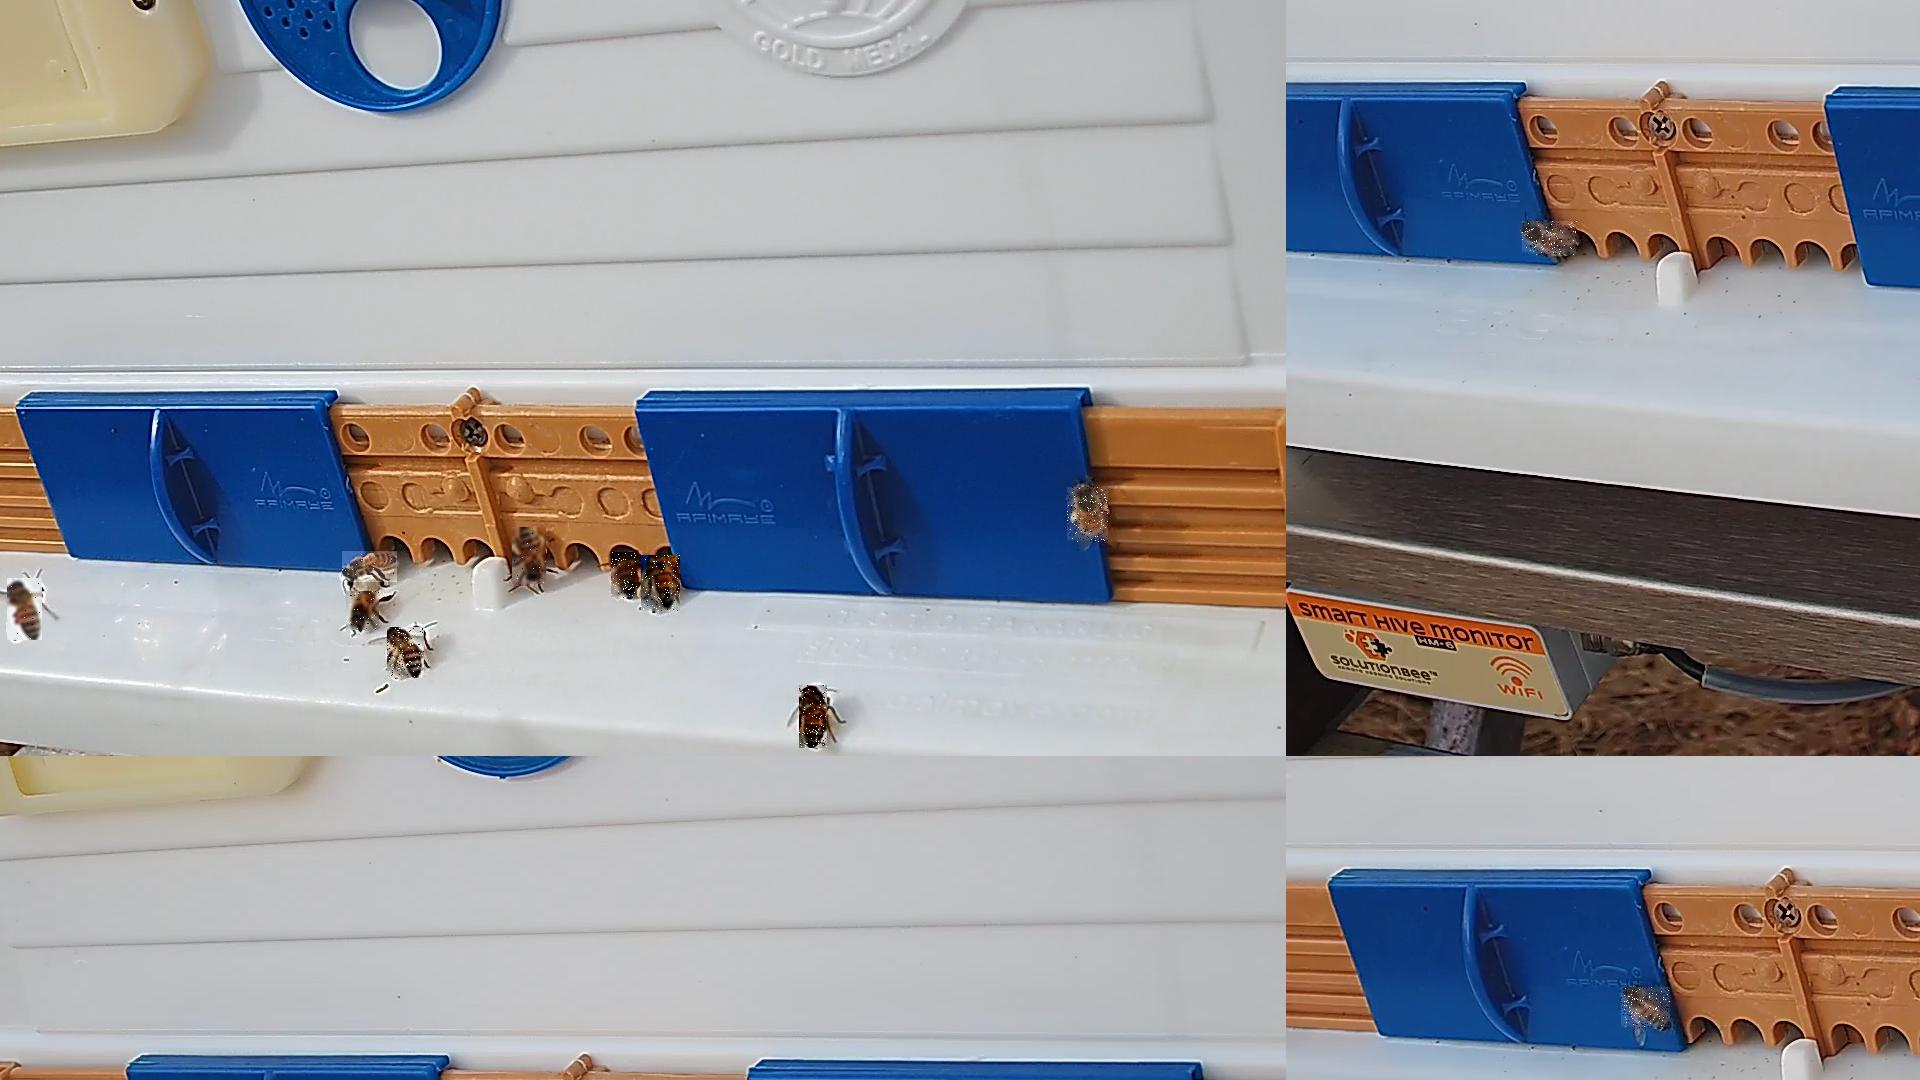bee: (7, 578, 44, 641), (1622, 988, 1671, 1030), (1523, 222, 1578, 257), (388, 628, 425, 679), (799, 684, 828, 749), (343, 553, 398, 585), (345, 591, 380, 632), (611, 553, 638, 600)
pollenbee: (641, 556, 682, 615), (1067, 488, 1109, 543), (512, 527, 547, 587)
